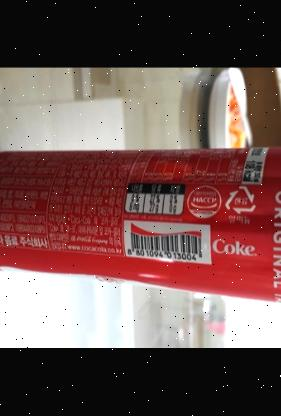Can: (0, 145, 281, 305)
